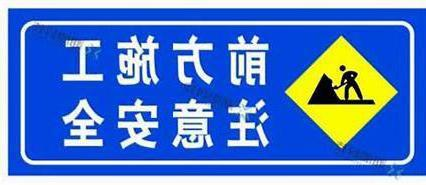sign: (15, 14, 418, 170)
